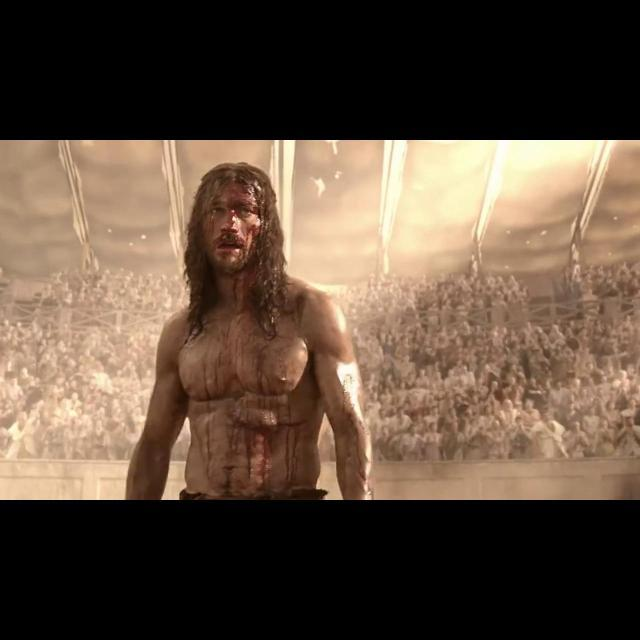blood: (216, 392, 301, 495), (206, 182, 260, 305)
